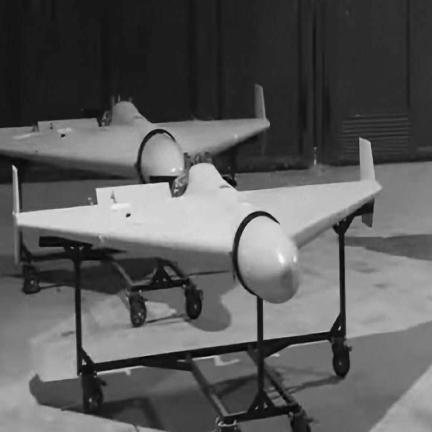Shahed: (12, 137, 383, 305), (1, 85, 270, 177)
